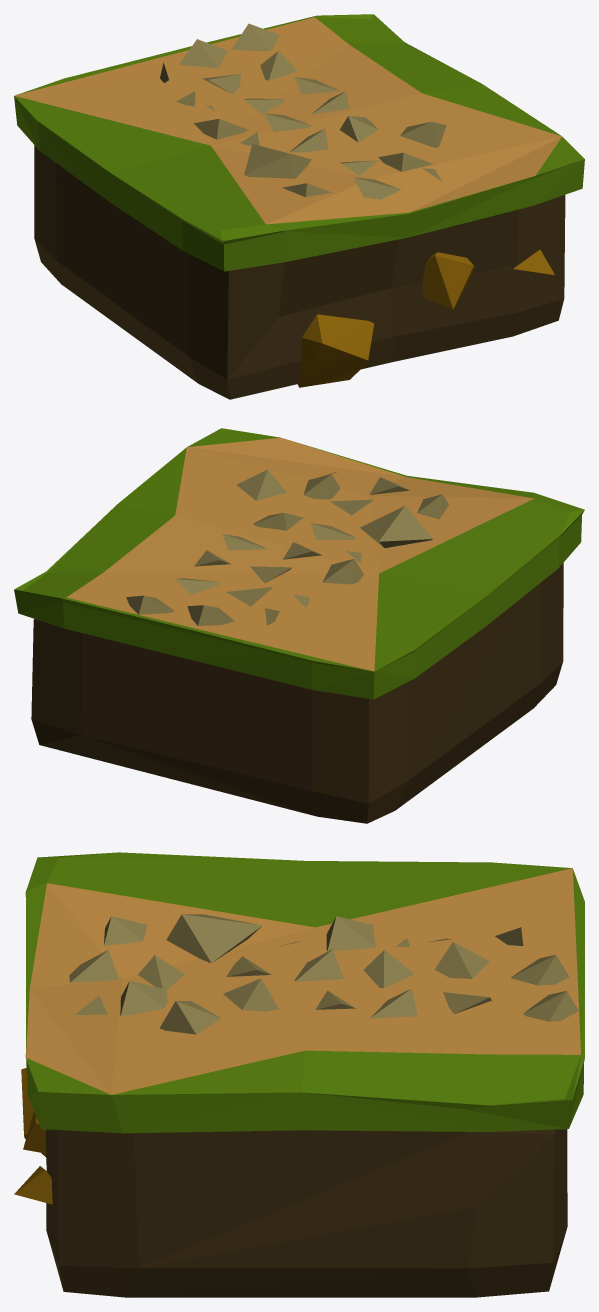
File: RoadTileForwardLessVert.fbx
3 views of the same model, one above another, from view 1: azimuth 30°, elevation 25°; view 2: azimuth 150°, elevation 25°; view 3: azimuth 270°, elevation 25° (orthographic). The views are drawn at different scales.
Visible parts, largest first — view 1: DefaultGreenTile.003, RoadRocks.001, Rocks.002; view 2: DefaultGreenTile.003, RoadRocks.001; view 3: DefaultGreenTile.003, RoadRocks.001, Rocks.002.
Part boxes in pixels (bbox=[...]): DefaultGreenTile.003: bbox=[14, 14, 584, 399]; RoadRocks.001: bbox=[160, 23, 446, 199]; Rocks.002: bbox=[297, 249, 554, 387]; DefaultGreenTile.003: bbox=[14, 428, 584, 823]; RoadRocks.001: bbox=[126, 469, 448, 625]; DefaultGreenTile.003: bbox=[25, 852, 584, 1297]; RoadRocks.001: bbox=[69, 914, 578, 1034]; Rocks.002: bbox=[14, 1068, 52, 1204].
Size of the model in its own units: 1939 by 964 by 1996.
